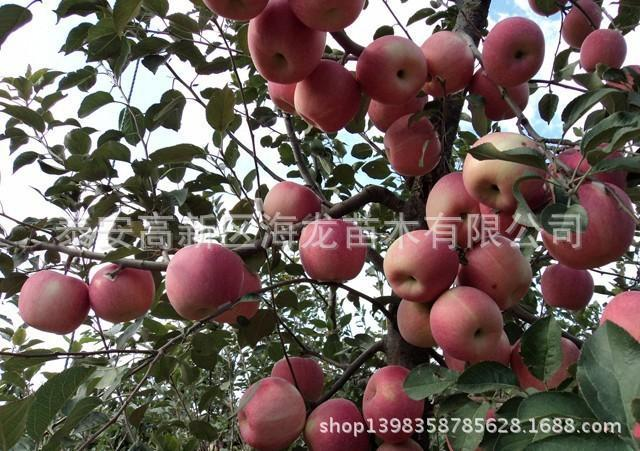apple: (539, 182, 636, 270), (165, 241, 246, 323), (246, 1, 326, 83), (465, 131, 548, 207), (382, 228, 459, 302), (359, 365, 428, 446), (424, 171, 498, 246), (459, 234, 532, 310), (232, 376, 310, 447), (428, 286, 502, 360), (294, 58, 358, 135), (355, 36, 427, 103), (18, 271, 90, 336), (482, 16, 547, 87), (298, 218, 367, 282), (87, 261, 157, 321), (381, 112, 440, 177), (419, 33, 478, 95), (470, 69, 531, 122), (305, 399, 369, 449), (539, 262, 593, 312), (268, 355, 323, 402), (261, 180, 322, 222), (288, 1, 367, 32), (578, 27, 626, 71)
